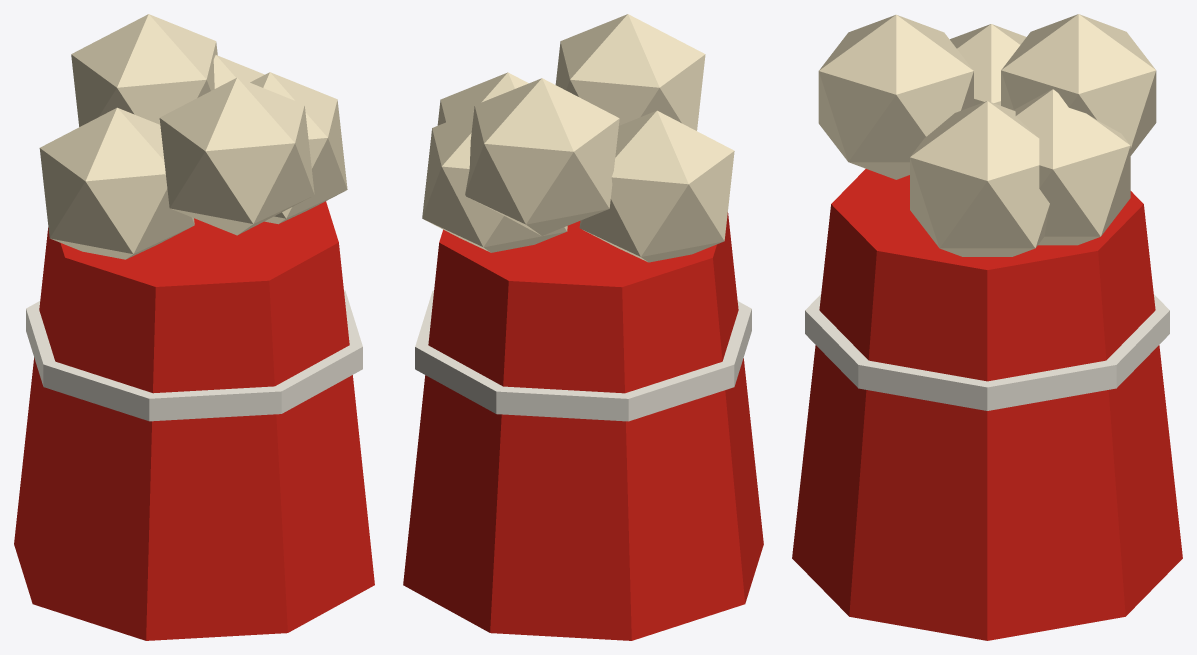
Rendered from popcorn_bucket.fbx.
3 renders of one model, left to right at view 1: azimuth 30°, elevation 25°; view 2: azimuth 150°, elevation 25°; view 3: azimuth 270°, elevation 25°, orthographic. The views are drawn at different scales.
Visible parts, largest first — view 1: popcorn_bucket; view 2: popcorn_bucket; view 3: popcorn_bucket.
Part boxes in pixels (bbox=[...]): popcorn_bucket: bbox=[14, 14, 374, 640]; popcorn_bucket: bbox=[403, 14, 763, 640]; popcorn_bucket: bbox=[792, 14, 1182, 640].
Bounding box in the file's own units: 0.3 × 0.46 × 0.3.
